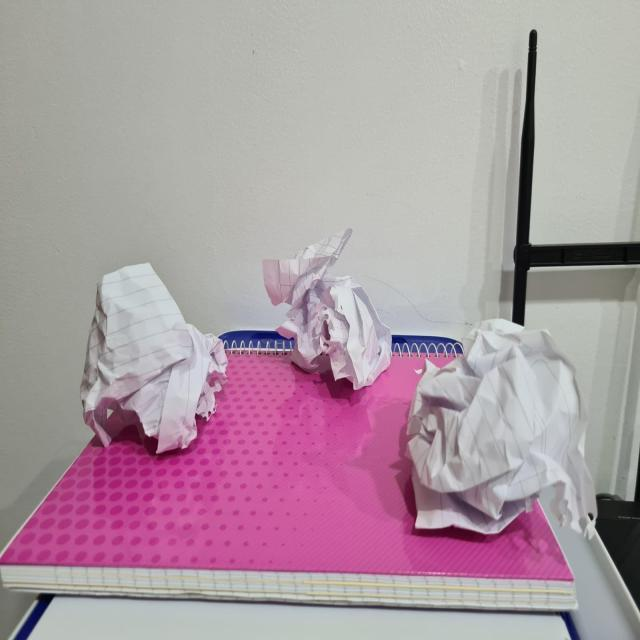cardboard paper: (406, 319, 595, 534), (80, 263, 227, 453), (264, 230, 391, 389)
